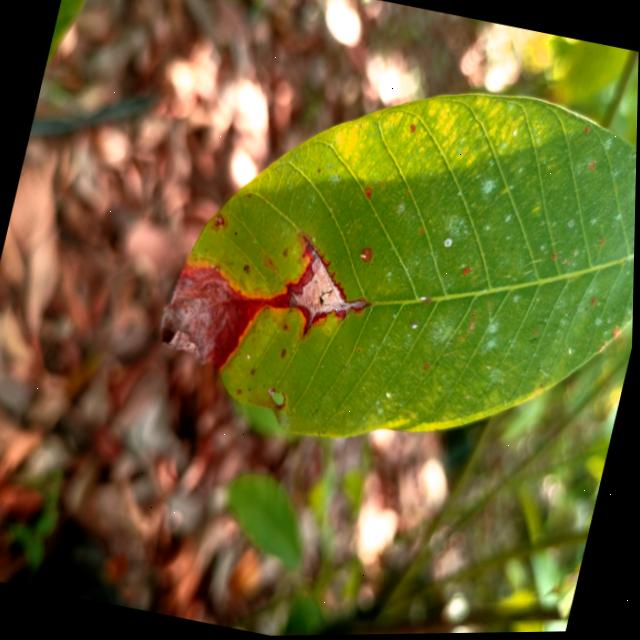Corynespora: (291, 236, 358, 301)
Leaf-Blight: (154, 258, 273, 377), (286, 254, 374, 335)
